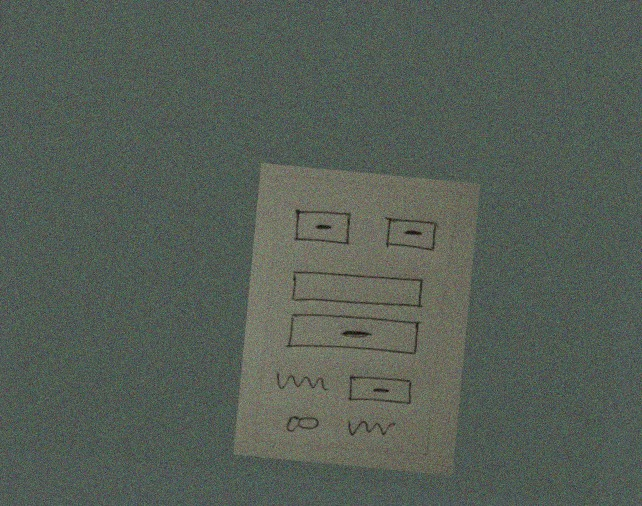button: (283, 308, 425, 363), (343, 371, 418, 412), (290, 204, 355, 251), (379, 212, 442, 257)
switch: (280, 411, 324, 441)
text: (272, 365, 331, 398), (340, 413, 400, 445)
text_input: (287, 264, 429, 313)
